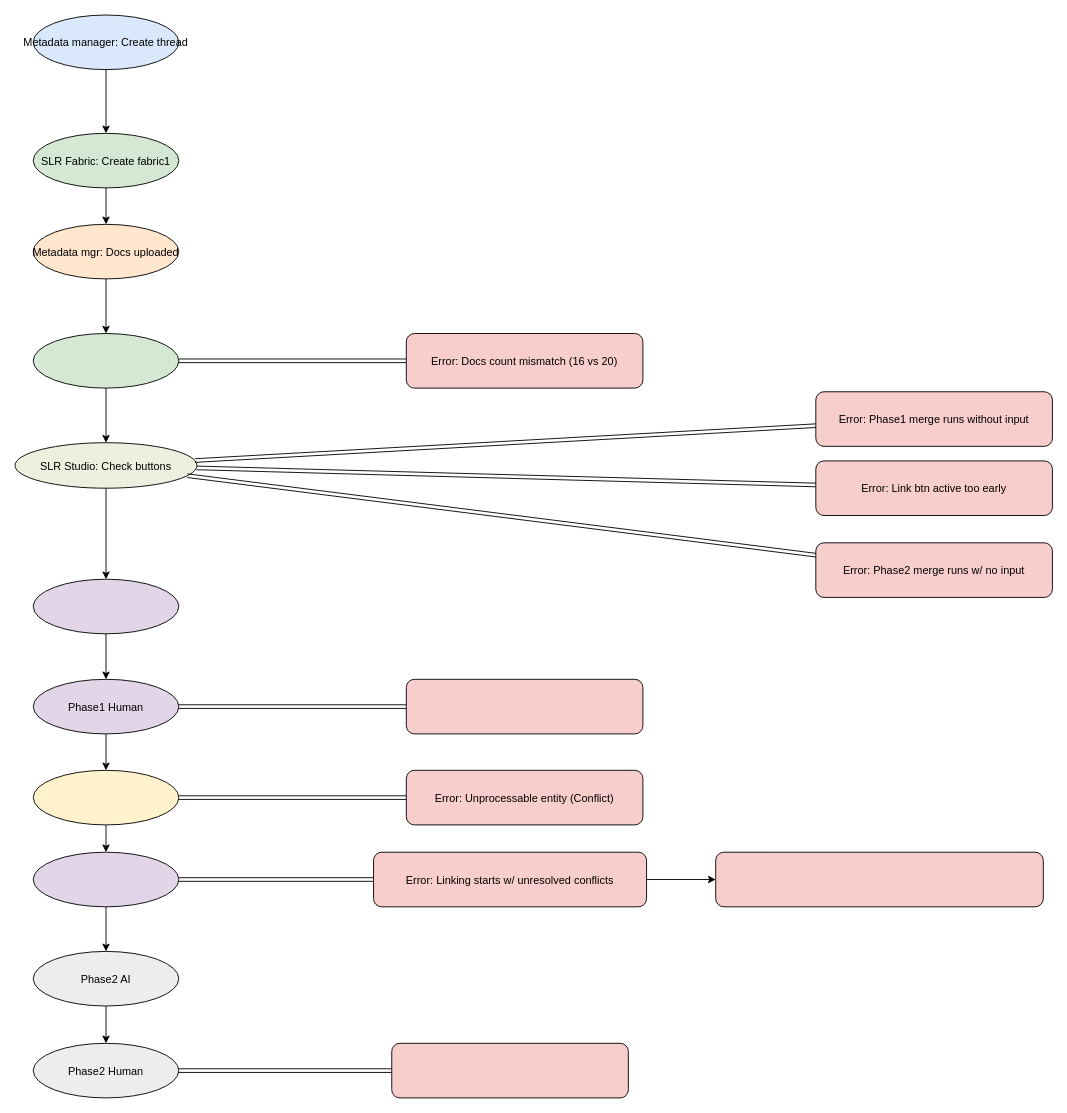
Image size: 1067x1113. Some labels were removed from this diagram. Here are the shapes that lost their labels. From the top down, the box of each, then its label:
(32, 333, 179, 388): SLR Fabric: Create fabric1 again
(32, 578, 179, 634): SLR Phase1: run
(405, 678, 643, 734): Error: Unprocessable entity (No Decision)
(32, 769, 179, 825): Phase1 Conflict
(32, 851, 179, 907): SLR Phase Linking
(715, 851, 1043, 907): Error: Linking success msg, but consumer not started
(391, 1042, 628, 1098): Error: Unprocessable entity (Phase2)
